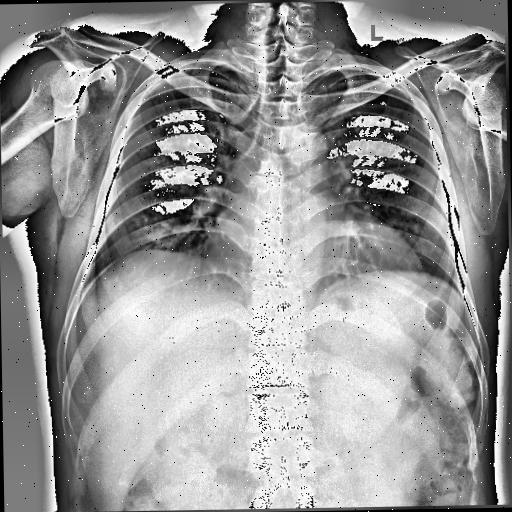0- Aortic enlargement: (282, 128, 330, 175)
3- Cardiomegaly: (206, 207, 423, 276), (200, 224, 424, 282), (204, 216, 422, 274)
